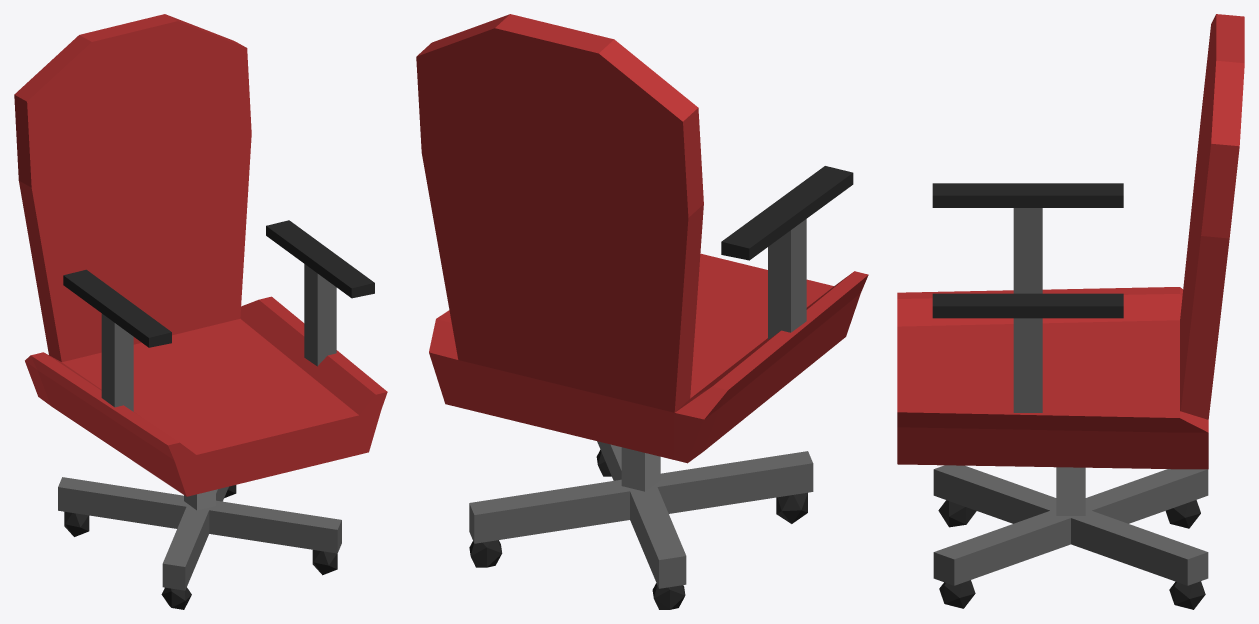
File: Chair_Red.fbx
The picture shows the model from 3 angles, left to right: view 1: azimuth 30°, elevation 25°; view 2: azimuth 150°, elevation 25°; view 3: azimuth 270°, elevation 25°; orthographic projection. The views are drawn at different scales.
Visible parts, largest first — view 1: Chair_Red; view 2: Chair_Red; view 3: Chair_Red.
Boxes of the visible parts, x1=… form: Chair_Red: x1=14, y1=14, x2=387, y2=609; Chair_Red: x1=416, y1=14, x2=868, y2=609; Chair_Red: x1=897, y1=14, x2=1244, y2=609.
Size of the model in its own units: 52.6 by 98.72 by 58.86.
